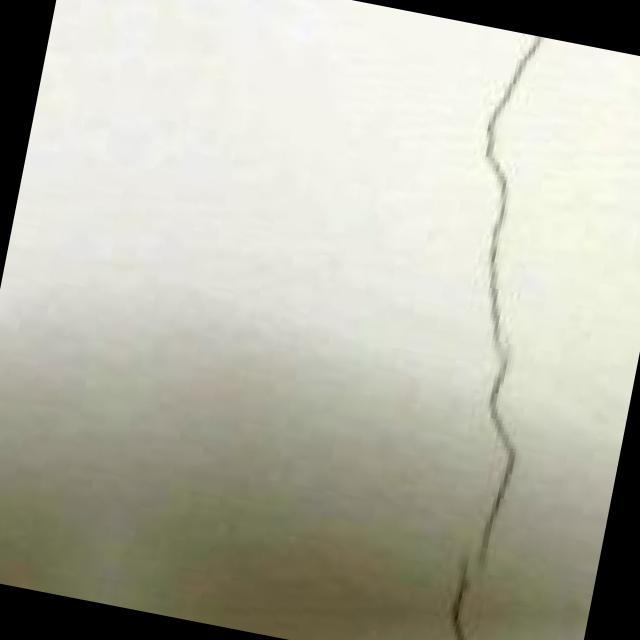crack: (319, 20, 640, 640)
